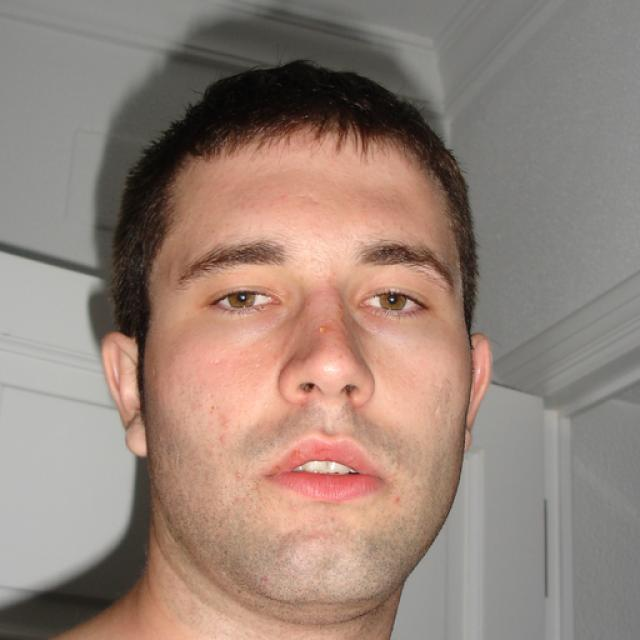Acne: (315, 325, 328, 336)
